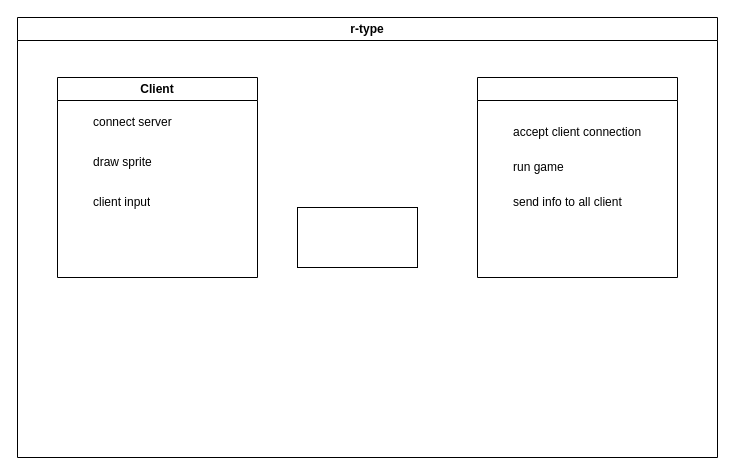
This 735x475 diagram has some shape labels left out. Here are the shapes that lost their labels. From the top down, the box of each, then its label:
(476, 76, 678, 278): Server
(296, 206, 418, 268): Asio
